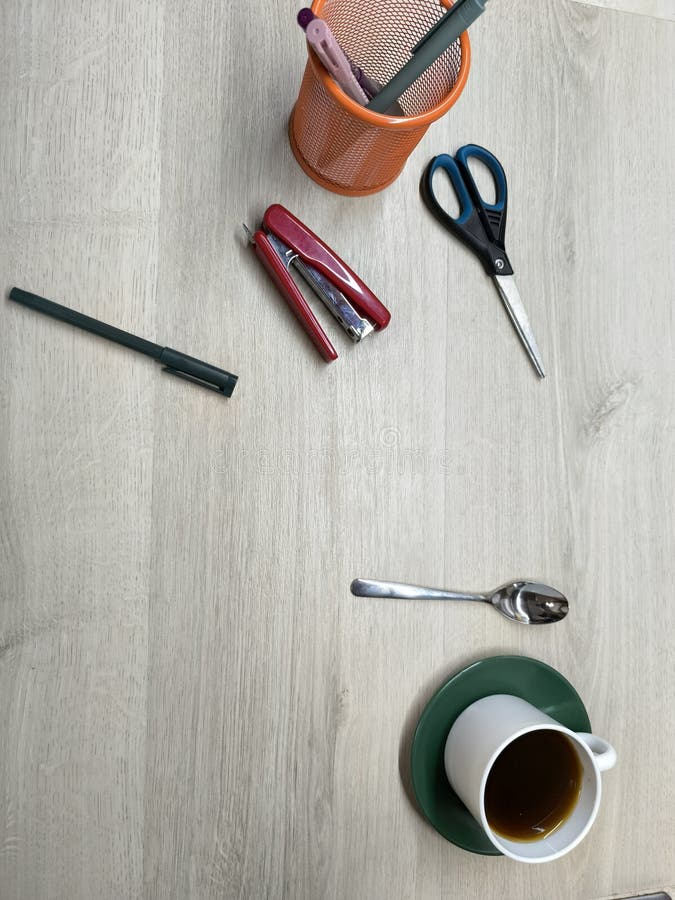not a gesture sign: (445, 695, 614, 862), (10, 289, 235, 395)
